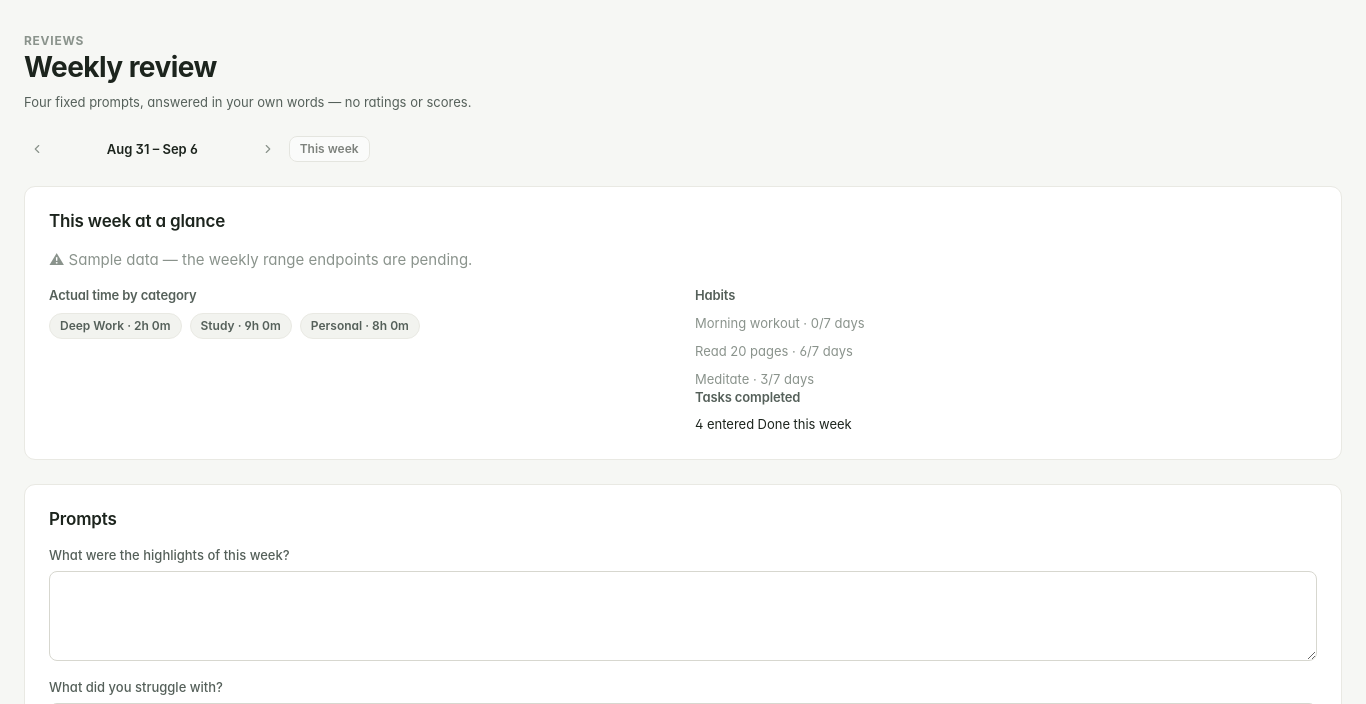
Test: WeeklyReviewScreen › steps by ISO week and enables 'This week' off the current week
The width and height of the screenshot is (1366, 704).
Expected: the text "What were the highlights of this week?" is shown, [49,547,290,563]
Expected: the button "This week" is disabled, [289,136,370,162]
Click the button named "Previous week".
click(37, 149)  # box [24,136,50,162]
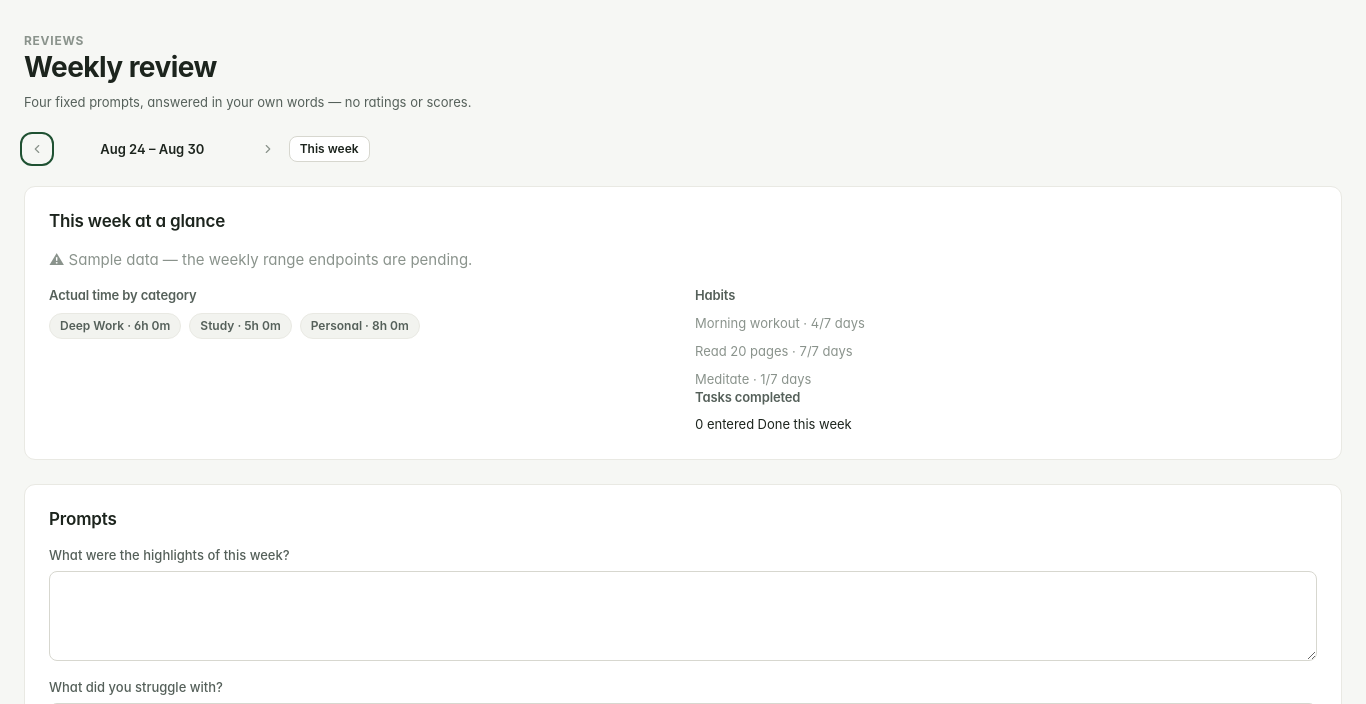
Now the button "This week" is enabled, box [289,136,370,162]
